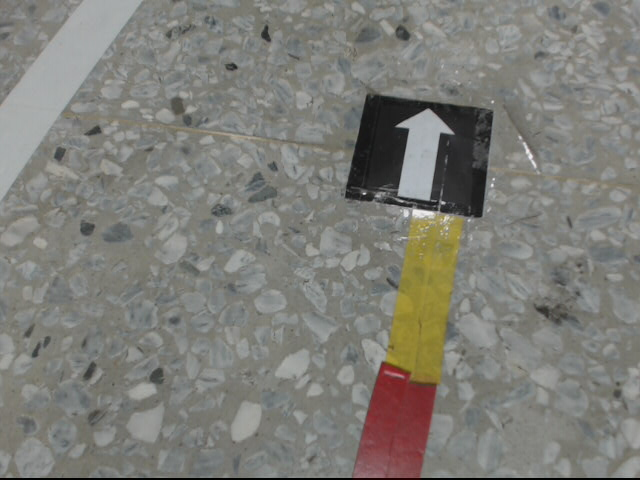straight: (344, 92, 495, 217)
